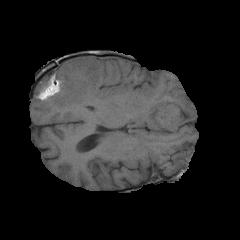glioma: (34, 56, 196, 131)
